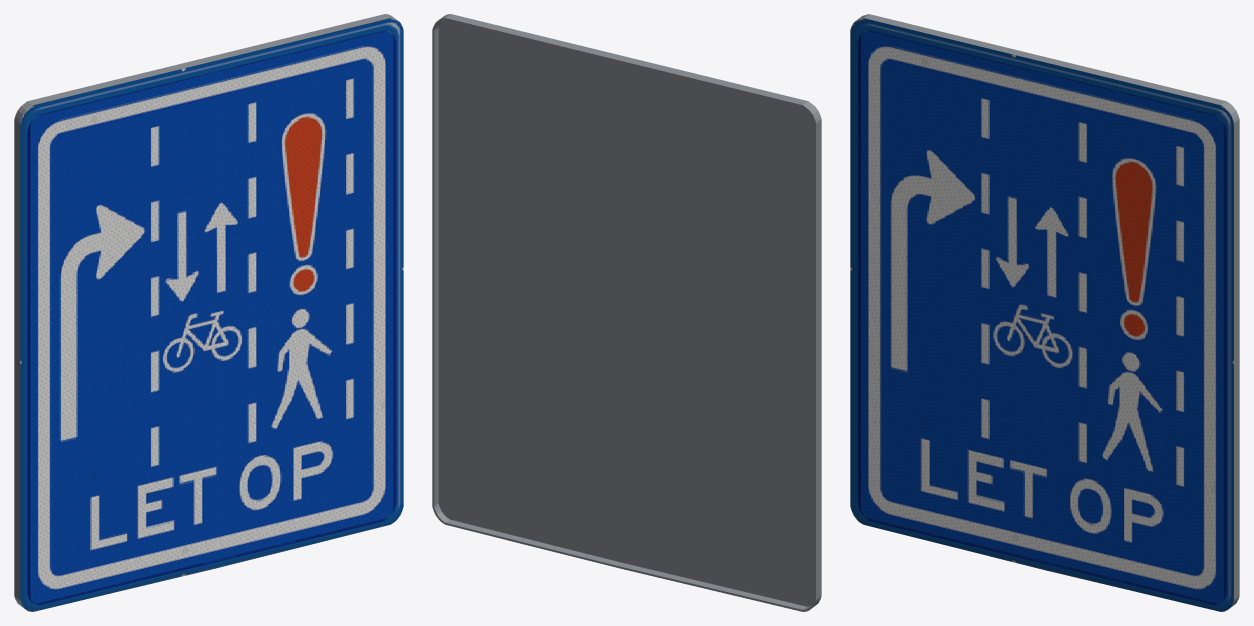
The picture shows the model from 3 angles, left to right: view 1: azimuth 30°, elevation 25°; view 2: azimuth 150°, elevation 25°; view 3: azimuth 330°, elevation 25°; orthographic projection.
Parts seen in each view (by area): view 1: cat_57ef5a604b2539db; view 2: cat_57ef5a604b2539db; view 3: cat_57ef5a604b2539db.
Part boxes in pixels (bbox=[...]): cat_57ef5a604b2539db: bbox=[14, 14, 403, 611]; cat_57ef5a604b2539db: bbox=[432, 14, 821, 611]; cat_57ef5a604b2539db: bbox=[850, 14, 1239, 611].
Bounding box in the file's own units: 0.6 × 0.015 × 0.7586.
Materials: 2 (1 with a texture image).
